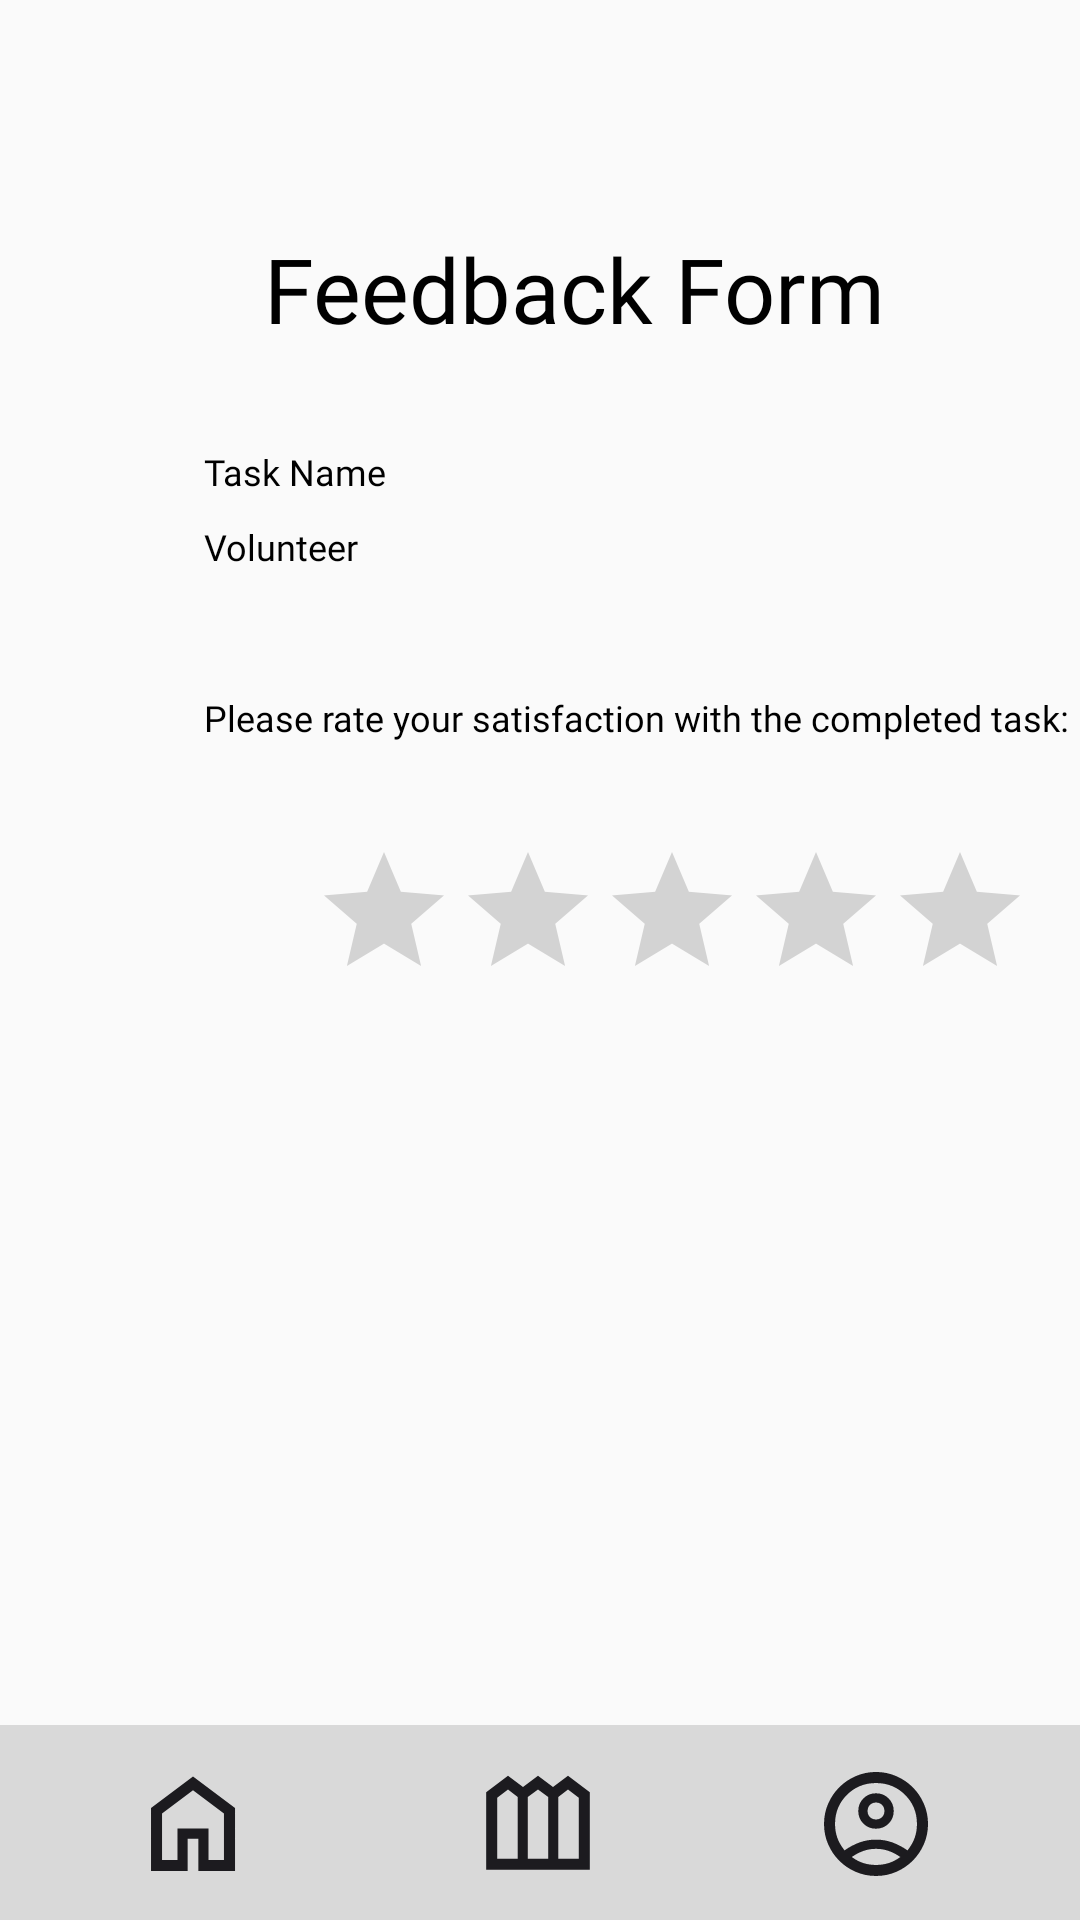

Where to tap for icons on this 1080x1920 app screen, as (x,y):
home: (193,1823)
outdoor garden: (538,1823)
